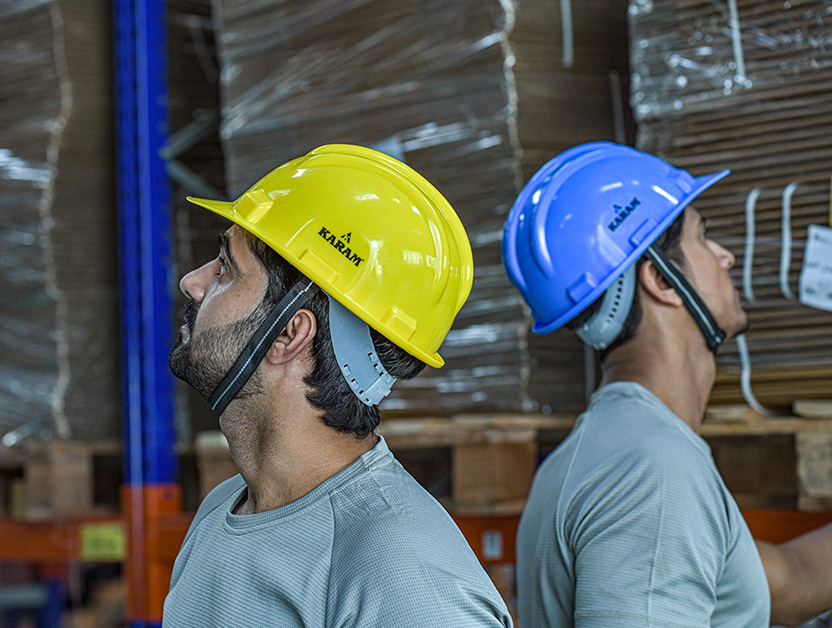helmet: (189, 144, 473, 367), (502, 142, 729, 334)
